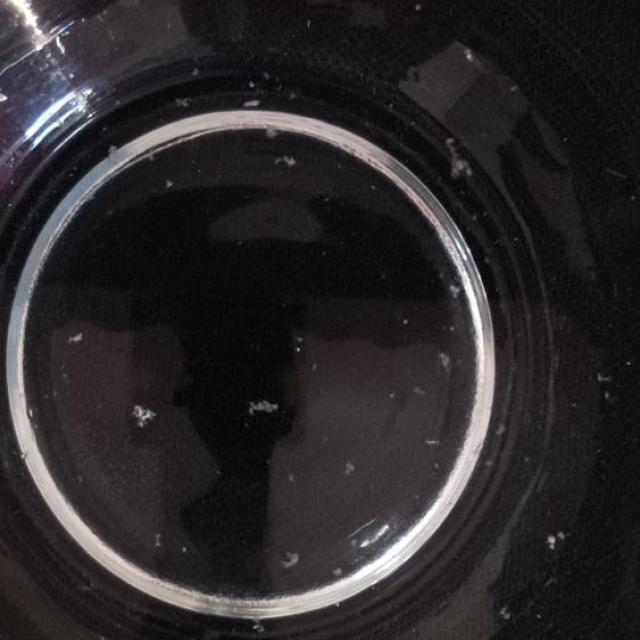fiber: (443, 122, 478, 184), (243, 393, 283, 421), (128, 397, 160, 430), (338, 448, 368, 483), (164, 82, 196, 112), (274, 541, 303, 572), (420, 427, 448, 455), (267, 151, 300, 172), (542, 529, 575, 550), (259, 116, 287, 140), (491, 599, 515, 627), (443, 277, 466, 305), (439, 348, 457, 381), (146, 530, 170, 552), (238, 93, 267, 111), (65, 327, 85, 349)
